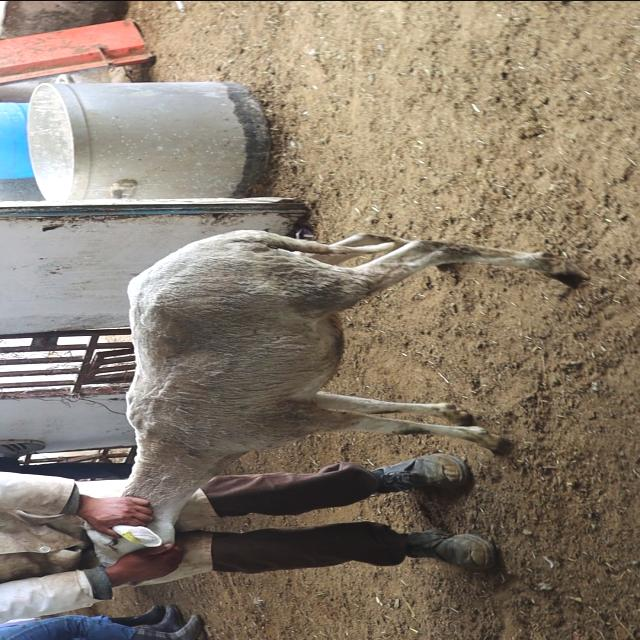Score_3: (84, 229, 577, 564)
